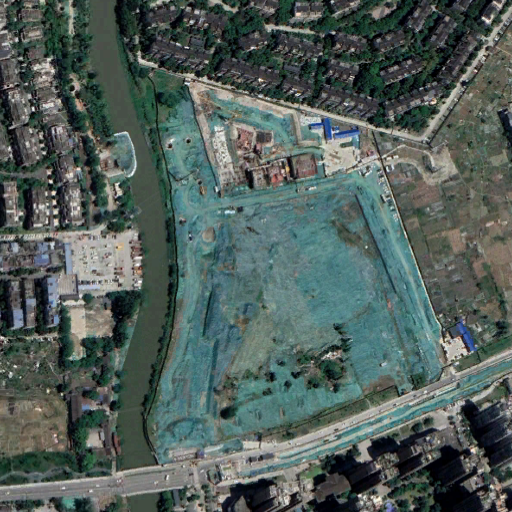cw: (147, 91, 441, 466)
